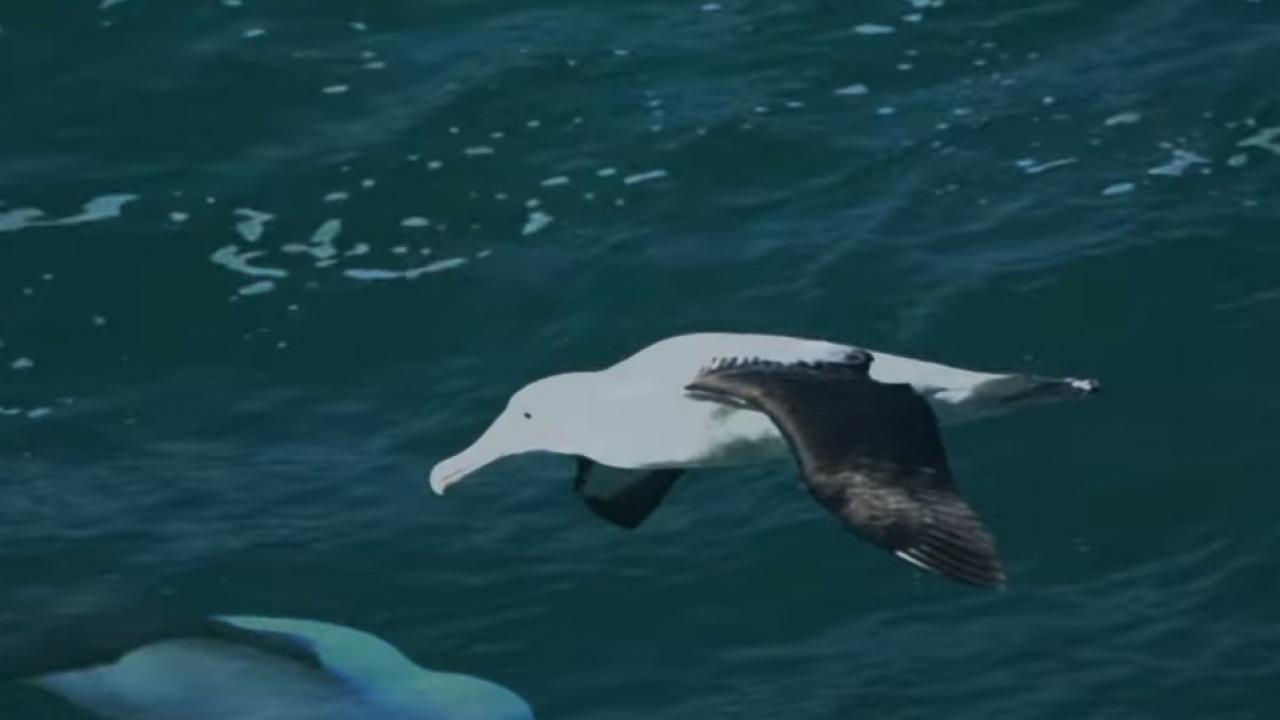Bird: (414, 321, 1107, 601)
